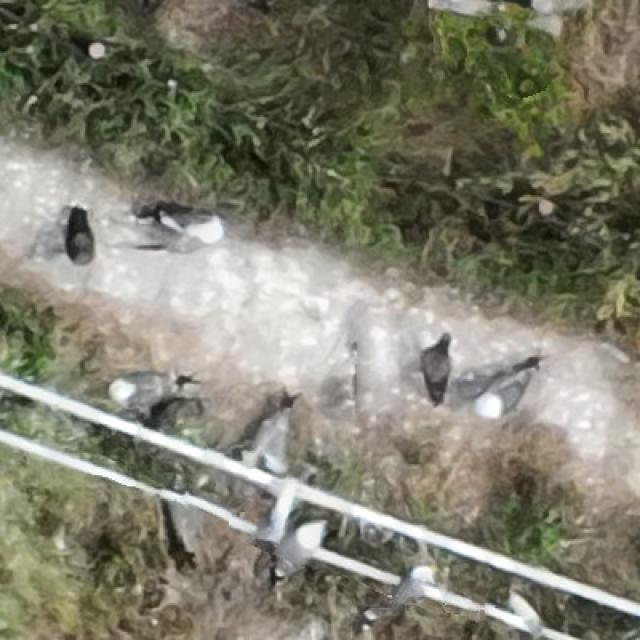umineko: (275, 518, 326, 580), (477, 372, 540, 417), (158, 207, 224, 242), (109, 374, 180, 405), (392, 559, 434, 611)
